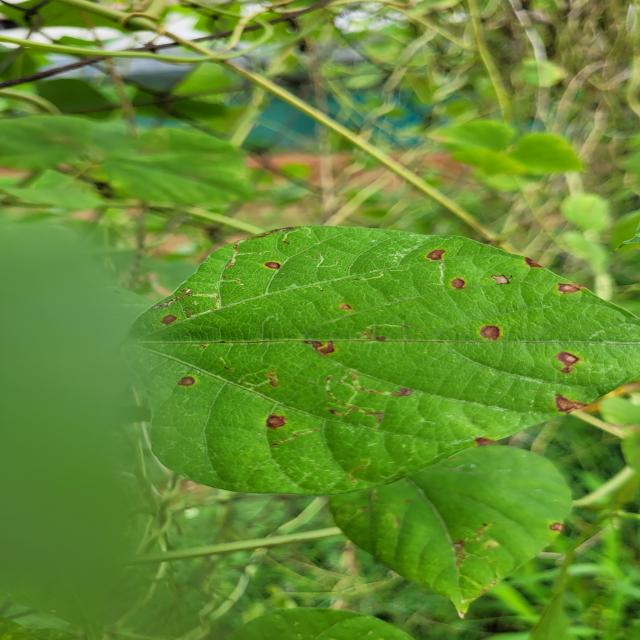Dolicos bean_cercospora leaf spot: (119, 218, 640, 492), (276, 440, 590, 612)
